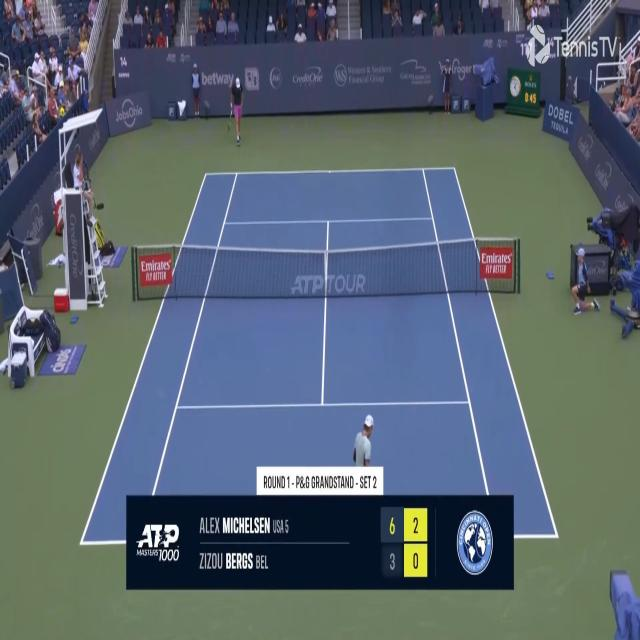tennis-player: (351, 414, 378, 493), (225, 76, 245, 146)
